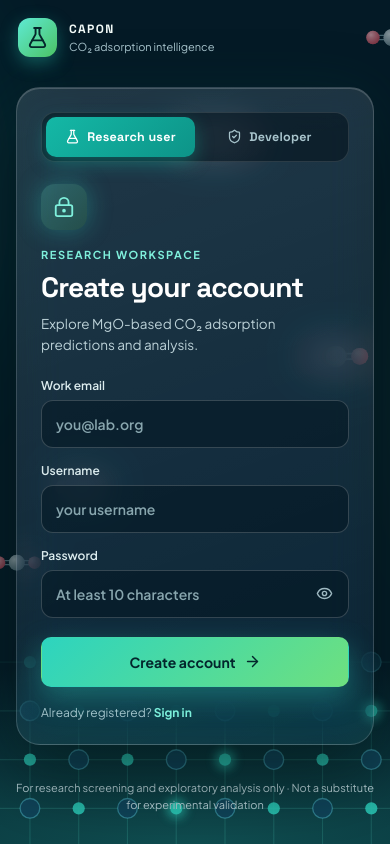
Test: page interactions › shows a clear validation message when registration username equals email
Type "researcher@lab.org" into the field labelled "Work email".
click(195, 424); type("researcher@lab.org")  # box [41, 400, 349, 448]
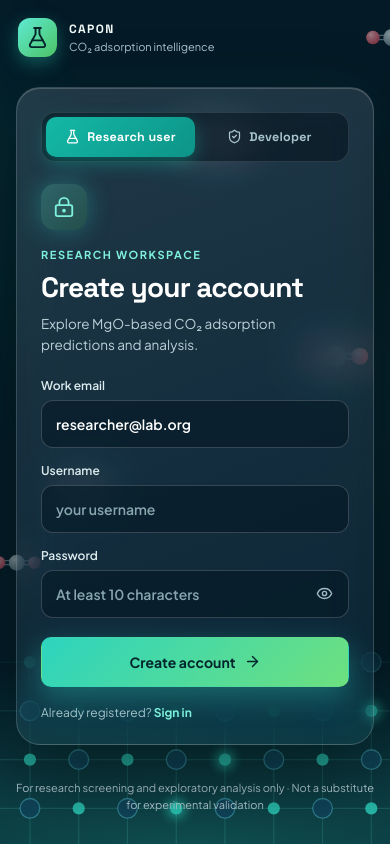
Type "researcher@lab.org" into the field labelled "Username".
click(195, 509); type("researcher@lab.org")  # box [41, 485, 349, 533]
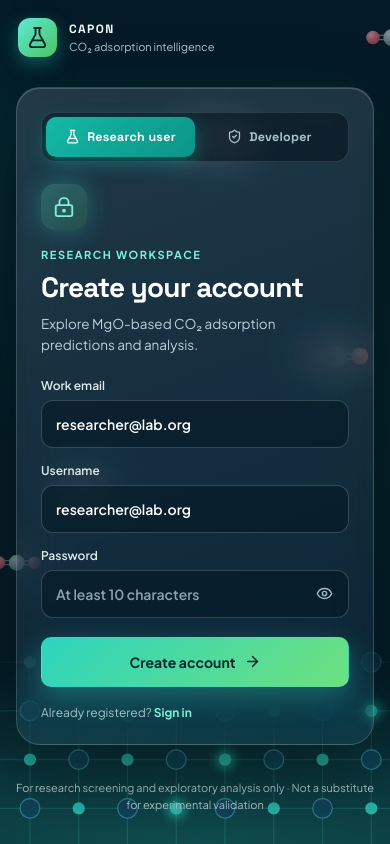
Type "long-enough-password" into the password field labelled "Password".
click(195, 594); type("long-enough-password")  # box [41, 570, 349, 618]
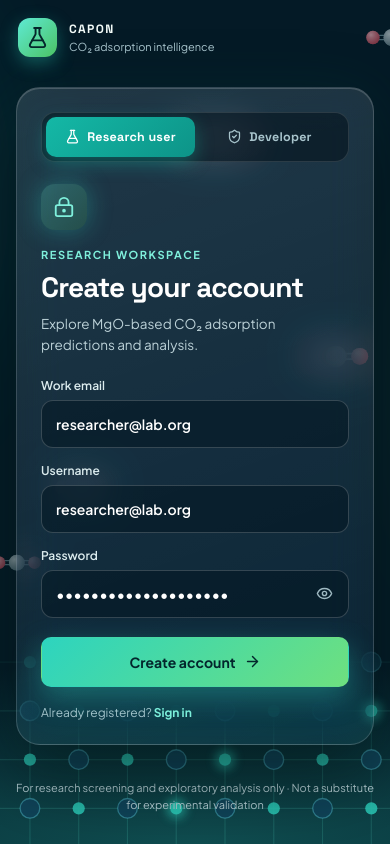
Click the button "Create account".
click(195, 662)  # box [41, 637, 349, 687]
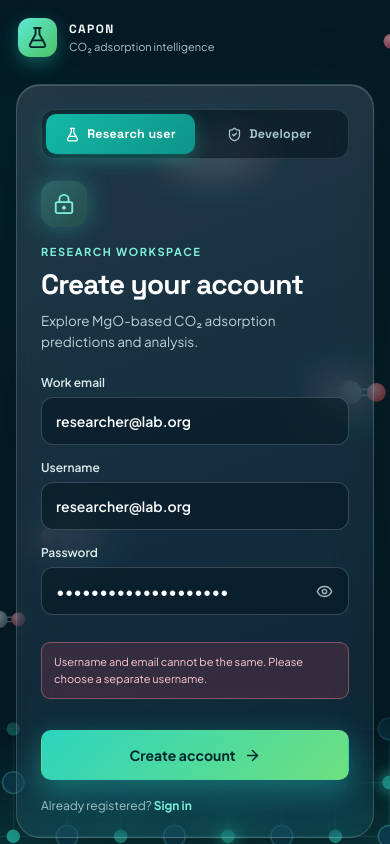
Now the message shows "Username and email cannot be the same", box [54, 655, 303, 685]
